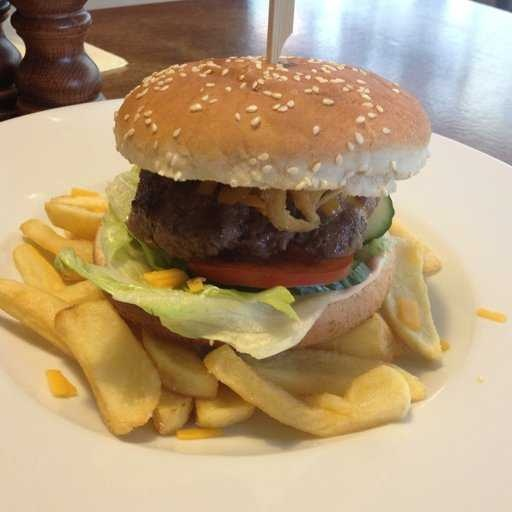hamburger: (76, 46, 436, 336)
